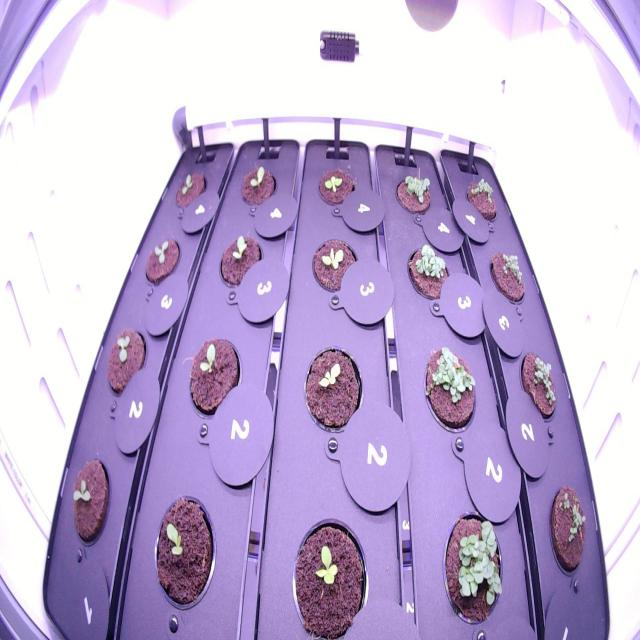germination: (145, 489, 219, 616), (438, 505, 509, 635), (184, 331, 244, 429), (546, 472, 593, 594), (420, 343, 480, 437), (64, 450, 114, 554), (101, 320, 151, 400), (517, 342, 562, 427), (403, 235, 454, 310), (214, 227, 266, 296), (485, 244, 528, 310), (140, 231, 182, 289), (394, 168, 437, 224), (237, 159, 280, 213), (460, 170, 500, 226), (172, 167, 210, 214)
young: (282, 512, 374, 637), (299, 339, 368, 439), (307, 232, 362, 300), (316, 162, 358, 212)
